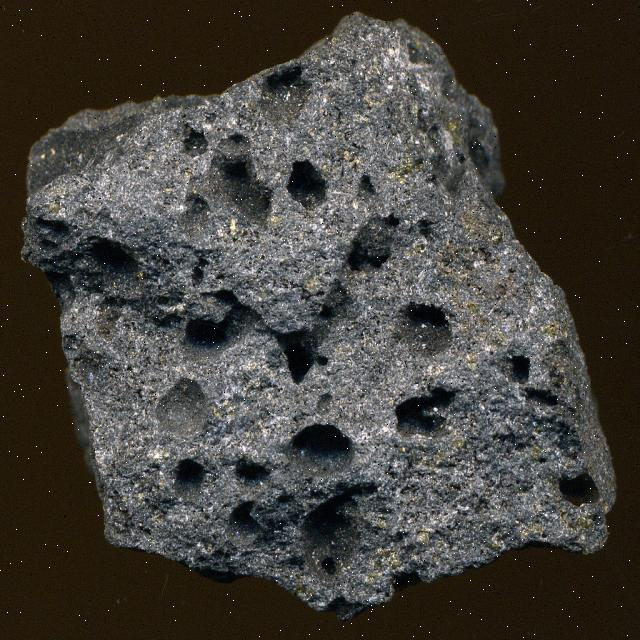Igneous: (18, 9, 633, 615)
